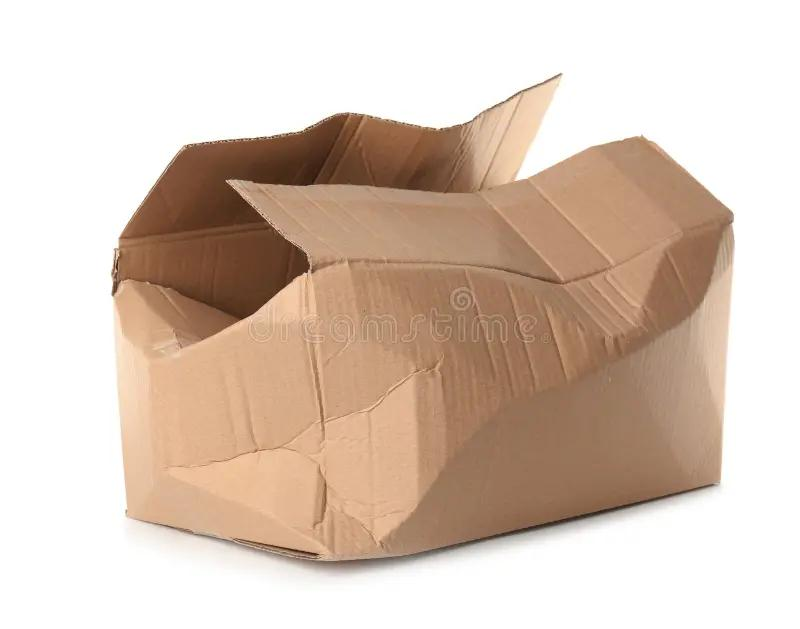plastic: (78, 58, 770, 589)
